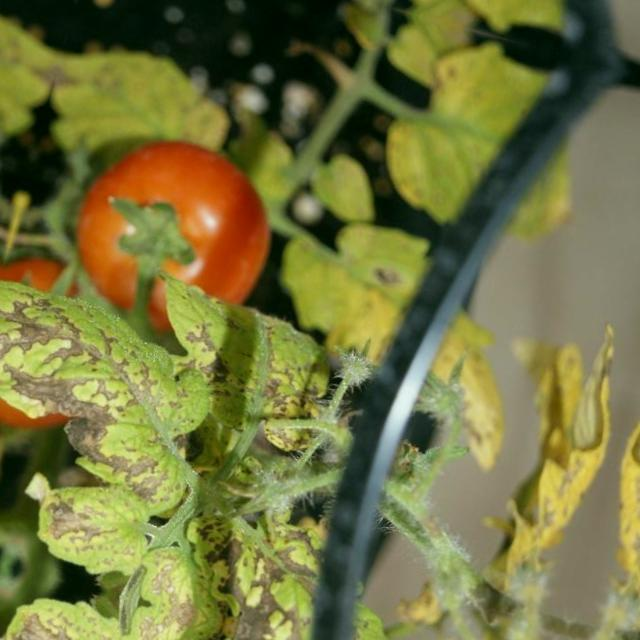Tomato leaf bacterial spot: (0, 270, 254, 534), (132, 276, 353, 451), (203, 511, 491, 640), (8, 467, 168, 592)
